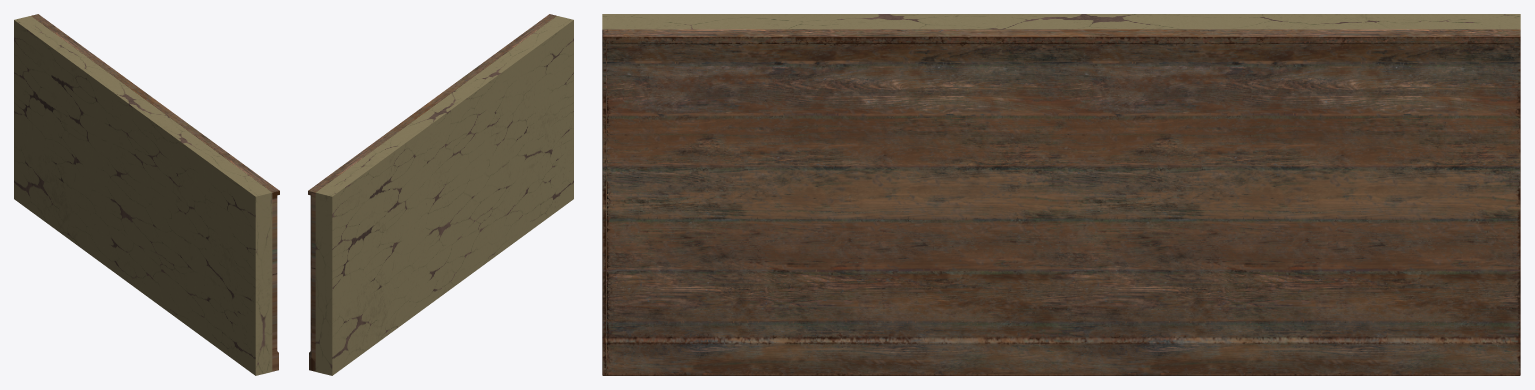
File: Wall_halfHeight.fbx
The picture shows the model from 3 angles, left to right: view 1: azimuth 30°, elevation 25°; view 2: azimuth 150°, elevation 25°; view 3: azimuth 270°, elevation 25°; orthographic projection. The views are drawn at different scales.
Parts seen in each view (by area): view 1: Wall_plain.009, WallTrim_Bot.006; view 2: Wall_plain.009, WallTrim_Bot.006; view 3: WallTrim_Bot.006, Wall_plain.009.
Boxes of the visible parts, bbox=[...] form: Wall_plain.009: bbox=[14, 16, 272, 375]; WallTrim_Bot.006: bbox=[31, 14, 279, 371]; Wall_plain.009: bbox=[315, 16, 573, 375]; WallTrim_Bot.006: bbox=[308, 14, 556, 371]; WallTrim_Bot.006: bbox=[602, 29, 1520, 375]; Wall_plain.009: bbox=[602, 14, 1520, 29].
Size of the model in its own units: 0.1458 by 2.5 by 1.02.
Materials: 2 (2 with a texture image).
